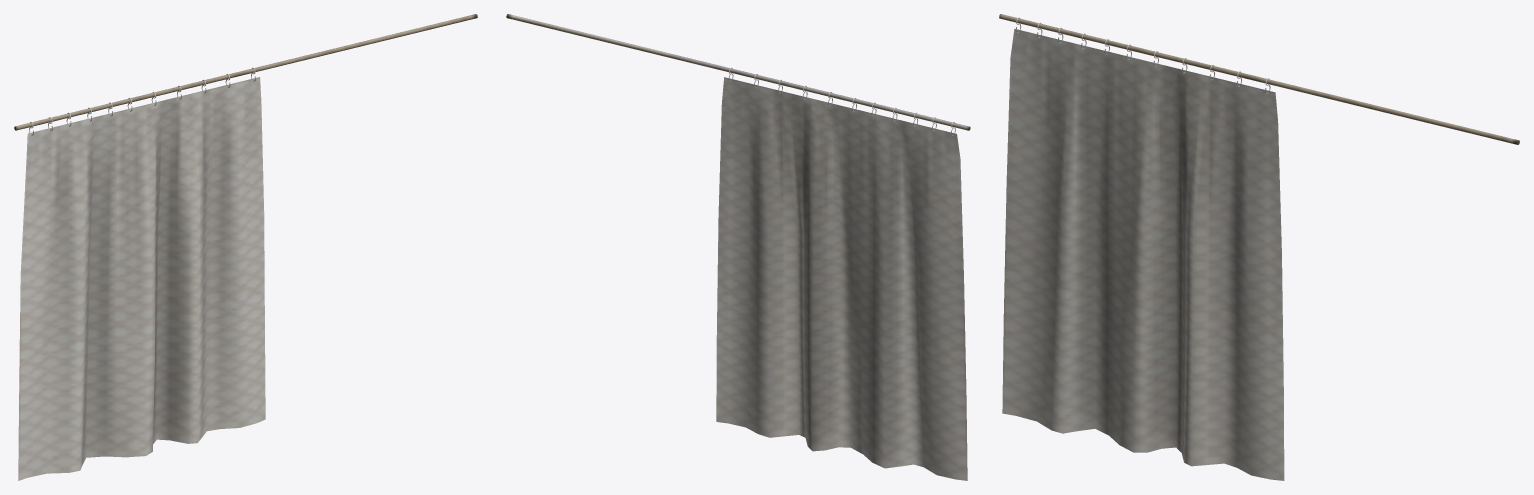
File: To_ShowerCurtain.FBX
The picture shows the model from 3 angles, left to right: view 1: azimuth 30°, elevation 25°; view 2: azimuth 150°, elevation 25°; view 3: azimuth 330°, elevation 25°; orthographic projection. The views are drawn at different scales.
Parts seen in each view (by area): view 1: To_ShowerCurtain, To_Shower_Pole; view 2: To_ShowerCurtain, To_Shower_Pole; view 3: To_ShowerCurtain, To_Shower_Pole.
Boxes of the visible parts, x1,y1,x2,y2 form: To_ShowerCurtain: (18, 67, 265, 480); To_Shower_Pole: (14, 14, 477, 130); To_ShowerCurtain: (716, 67, 967, 480); To_Shower_Pole: (506, 14, 970, 130); To_ShowerCurtain: (1002, 17, 1284, 480); To_Shower_Pole: (999, 14, 1519, 144).
Bounding box in the file's own units: 240 × 177 × 12.44.
